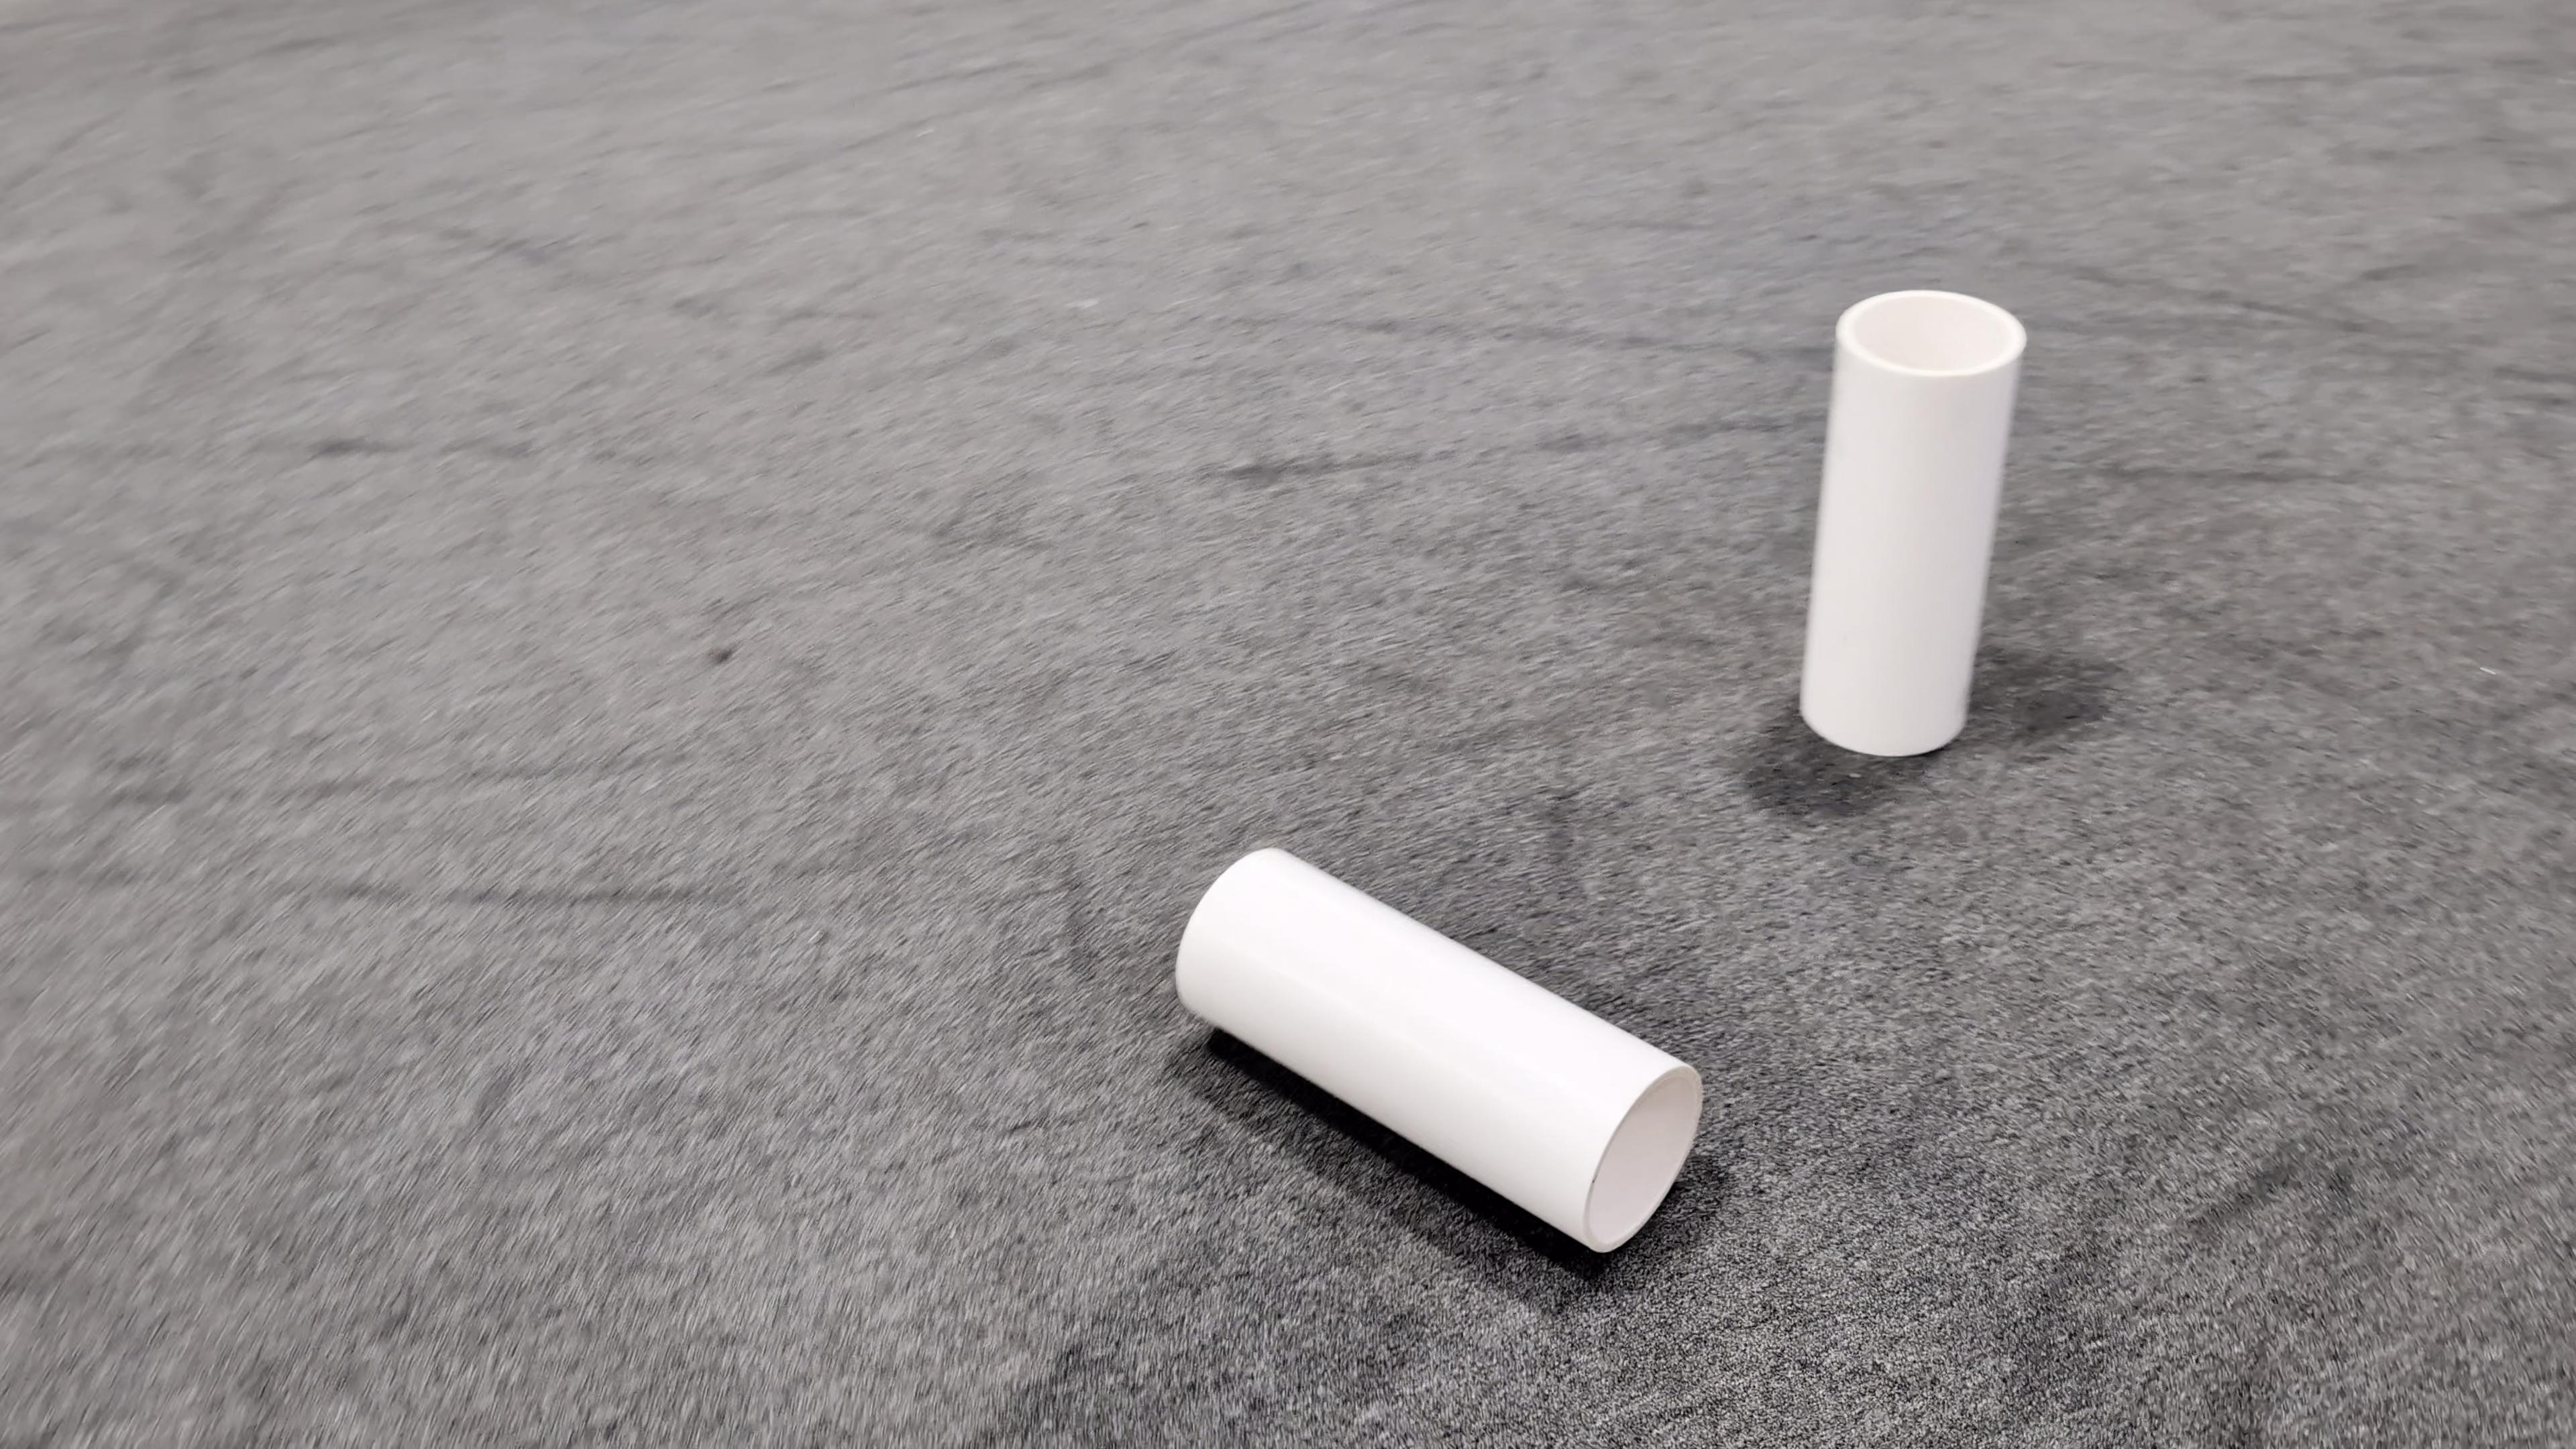coral: (1171, 842, 1704, 1254), (1794, 287, 2029, 757)
